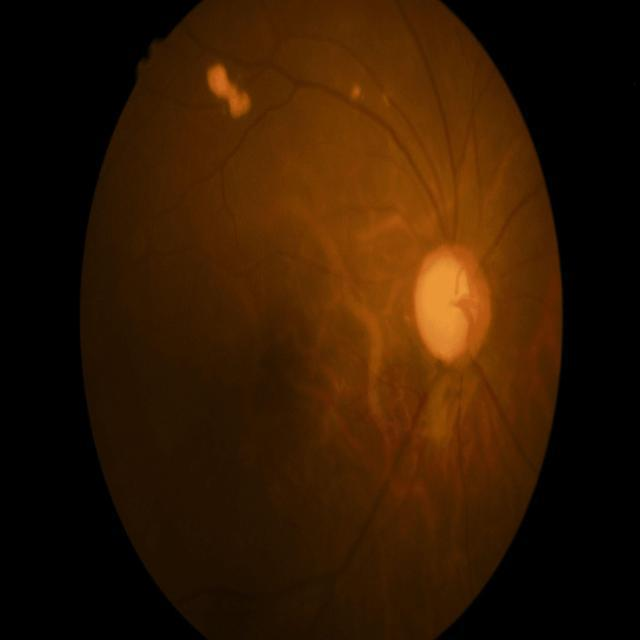cup: (415, 256, 481, 360)
disk: (412, 244, 492, 366)
